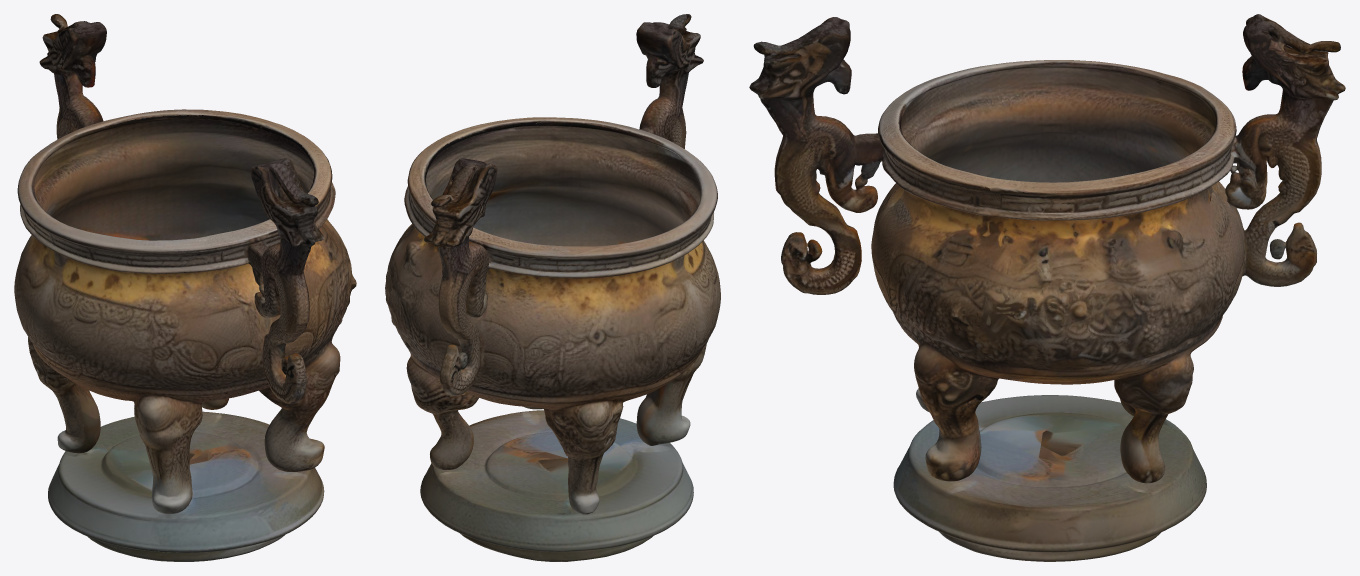
3 renders of one model, left to right at view 1: azimuth 30°, elevation 25°; view 2: azimuth 150°, elevation 25°; view 3: azimuth 270°, elevation 25°, orthographic. The views are drawn at different scales.
Visible parts, largest first — view 1: tripo_node_db794b98-14e4-4514-8694-0115e8878833; view 2: tripo_node_db794b98-14e4-4514-8694-0115e8878833; view 3: tripo_node_db794b98-14e4-4514-8694-0115e8878833.
Boxes of the visible parts, bbox=[...] form: tripo_node_db794b98-14e4-4514-8694-0115e8878833: bbox=[14, 14, 356, 561]; tripo_node_db794b98-14e4-4514-8694-0115e8878833: bbox=[385, 14, 720, 561]; tripo_node_db794b98-14e4-4514-8694-0115e8878833: bbox=[749, 14, 1345, 561].
Bounding box in the file's own units: 0.6044 × 0.8477 × 0.9394.
1 material, 1 textured.
